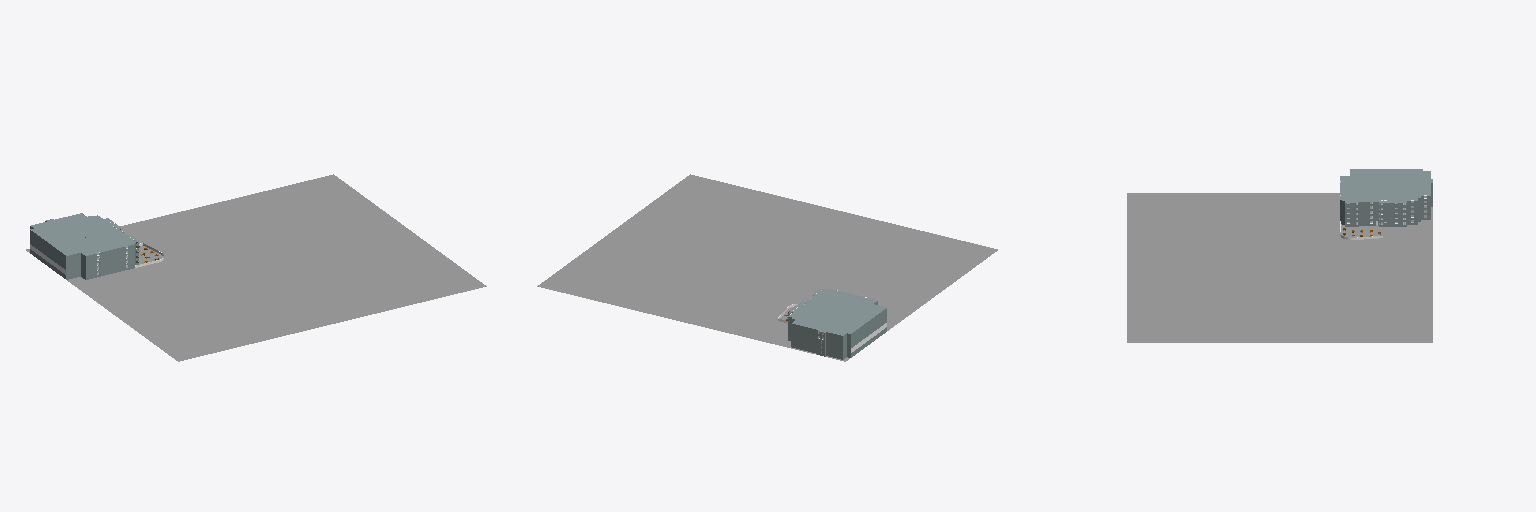
Rendered from Building 4.obj.
3 views of the same model, side by side, from view 1: azimuth 30°, elevation 25°; view 2: azimuth 150°, elevation 25°; view 3: azimuth 270°, elevation 25° (orthographic).
Visible parts, largest first — view 1: ground_1, room_209_1145; view 2: ground_1, room_209_1145; view 3: ground_1, room_209_1145.
Part boxes in pixels (left/top/right/bottom): ground_1: left=26, top=174, right=486, bottom=361; room_209_1145: left=31, top=213, right=138, bottom=255; ground_1: left=537, top=174, right=997, bottom=361; room_209_1145: left=789, top=289, right=885, bottom=335; ground_1: left=1127, top=193, right=1432, bottom=342; room_209_1145: left=1341, top=169, right=1432, bottom=202.
Bounding box in the file's own units: 14804 × 1109 × 12725.